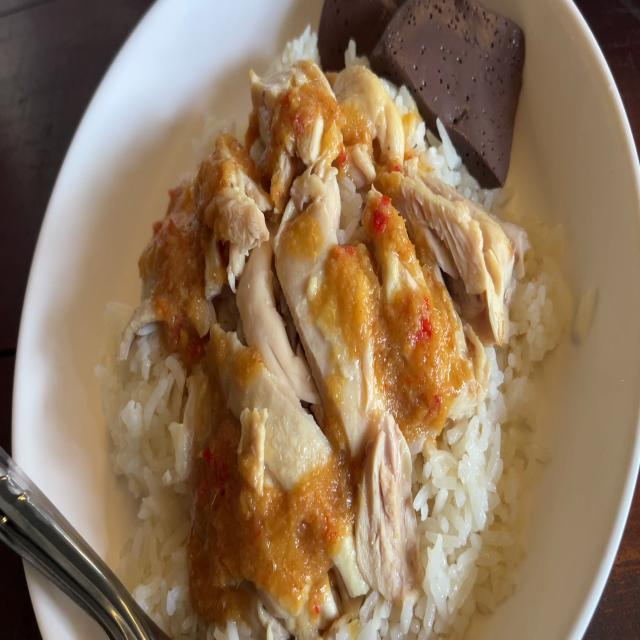boiled_chicken: (166, 63, 454, 538)
boiled_chicken_blood_jelly: (322, 0, 520, 173)
chicken_rice: (112, 0, 593, 640)
